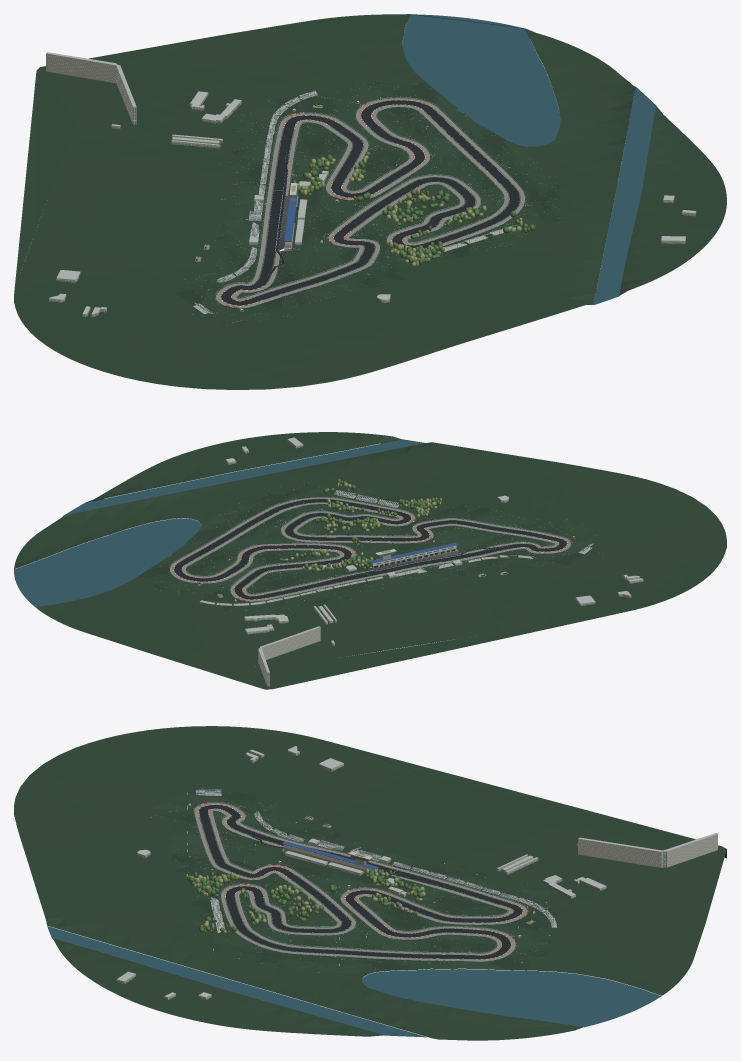
Rendered from BuenosAires.glb.
3 renders of one model, top to bottom at view 1: azimuth 30°, elevation 25°; view 2: azimuth 150°, elevation 25°; view 3: azimuth 270°, elevation 25°, orthographic. The views are drawn at different scales.
Visible parts, largest first — view 1: terrain/ground, water-1/water, terrain-ground-finish-1, road/asphalt, terrain-ground-finish-3, terrain-ground-finish-2, runoff/gravel, terrain-ground-finish-0, terrain-extension/land, terrain-ground-finish-4, water-2/water, scenery/leaves (+4 smaller); view 2: terrain/ground, water-1/water, terrain-ground-finish-1, terrain-ground-finish-3, road/asphalt, runoff/gravel, terrain-ground-finish-2, terrain-extension/land, terrain-ground-finish-4, terrain-ground-finish-0, water-2/water, barriers/steel (+4 smaller); view 3: terrain/ground, water-1/water, terrain-ground-finish-1, terrain-ground-finish-3, road/asphalt, terrain-ground-finish-2, runoff/gravel, terrain-ground-finish-0, terrain-extension/land, terrain-ground-finish-4, water-2/water, urban-map-tile--1--4/concrete-light (+4 smaller).
Part boxes in pixels (x1,y1,x2,y2): terrain/ground: (14, 14, 726, 389); water-1/water: (402, 14, 560, 146); terrain-ground-finish-1: (179, 82, 574, 325); road/asphalt: (221, 100, 519, 305); terrain-ground-finish-3: (185, 85, 559, 322); terrain-ground-finish-2: (184, 84, 569, 323); runoff/gravel: (216, 98, 524, 307); terrain-ground-finish-0: (176, 82, 570, 307); terrain-extension/land: (14, 38, 204, 291); terrain-ground-finish-4: (192, 89, 551, 322); water-2/water: (593, 87, 655, 305); scenery/leaves: (292, 151, 534, 264); terrain/ground: (14, 432, 726, 666); water-1/water: (14, 518, 201, 607); terrain-ground-finish-1: (138, 482, 604, 614); terrain-ground-finish-3: (150, 484, 599, 612); road/asphalt: (174, 499, 566, 599); runoff/gravel: (170, 497, 570, 601); terrain-ground-finish-2: (149, 482, 602, 612); terrain-extension/land: (154, 613, 618, 689); terrain-ground-finish-4: (152, 486, 591, 614); terrain-ground-finish-0: (140, 483, 582, 610); water-2/water: (65, 439, 424, 514); barriers/steel: (169, 497, 570, 601); terrain/ground: (14, 726, 707, 1040); water-1/water: (362, 968, 661, 1027); terrain-ground-finish-1: (167, 784, 570, 970); terrain-ground-finish-3: (151, 792, 560, 972); road/asphalt: (199, 805, 522, 959); terrain-ground-finish-2: (161, 786, 566, 972); runoff/gravel: (194, 803, 526, 961); terrain-ground-finish-0: (171, 793, 560, 972); terrain-extension/land: (332, 742, 726, 916); terrain-ground-finish-4: (150, 795, 550, 972); water-2/water: (47, 926, 426, 1037); urban-map-tile--1--4/concrete-light: (578, 834, 717, 867).
Bounding box in the file's own units: 1746 × 67.22 × 1693.
